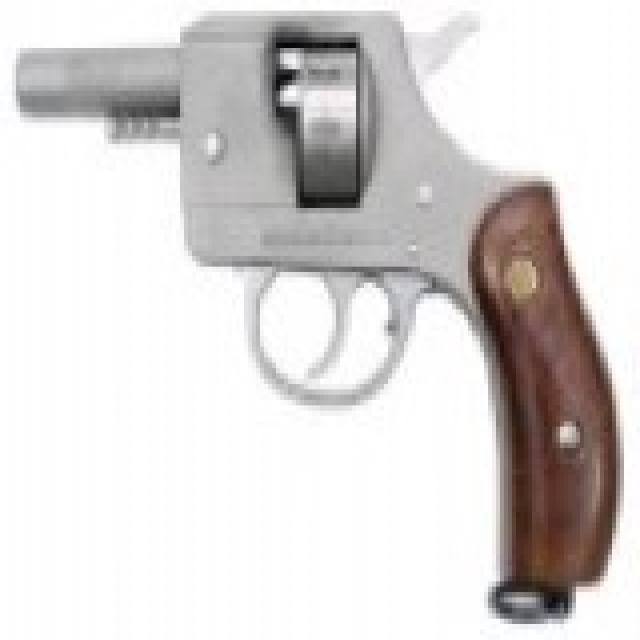weapon: (16, 5, 628, 603)
